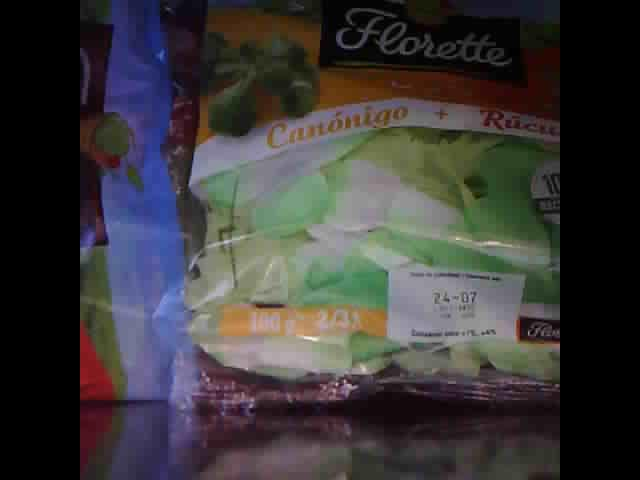florette: (165, 5, 558, 419), (79, 3, 214, 403)
